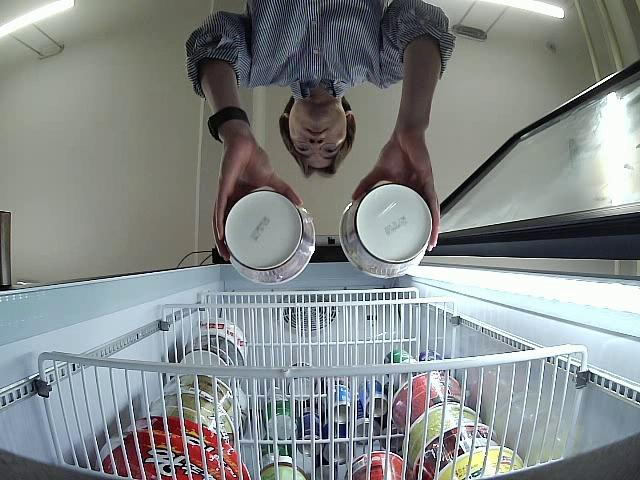00_hand: (348, 128, 442, 255), (210, 138, 303, 265)
05_nuguri_L: (338, 186, 435, 278), (225, 190, 315, 289)
